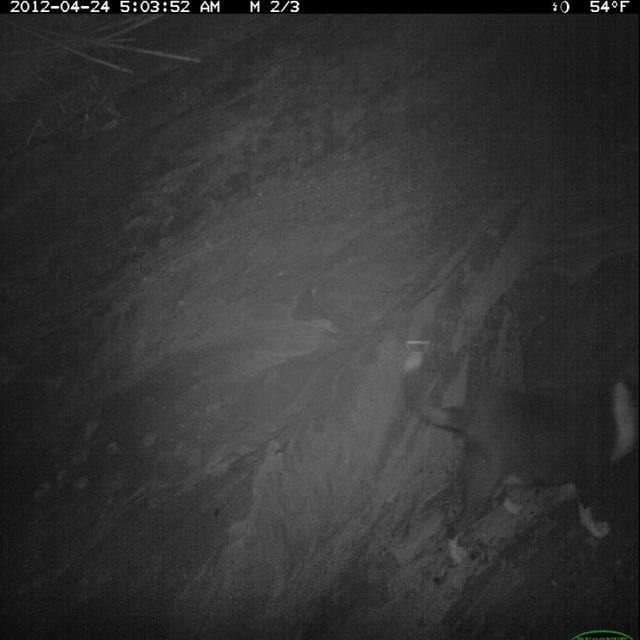dog: (399, 339, 640, 569)
